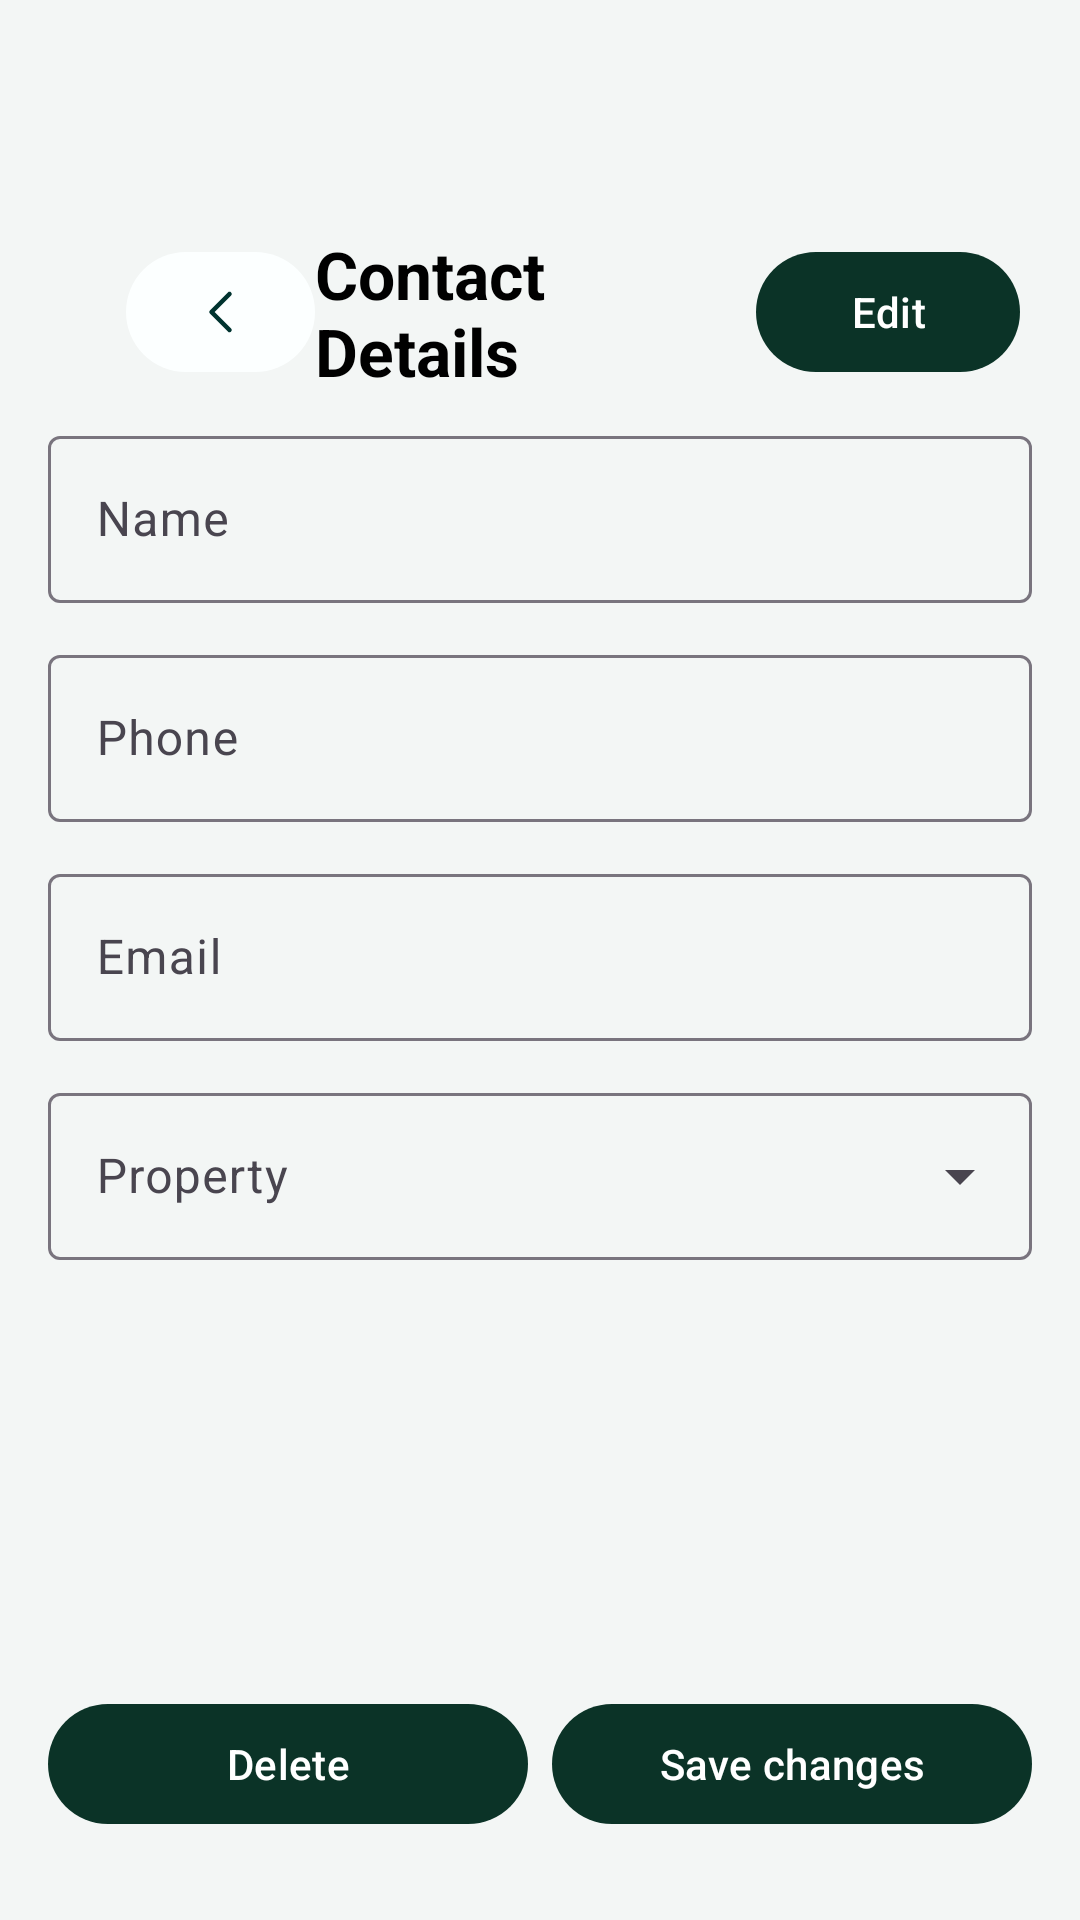

Named icons in this screenshot (1080 × 1920) and their bounding boxes, (x1, y1, x2, y2):
back: (126, 252, 315, 372)
